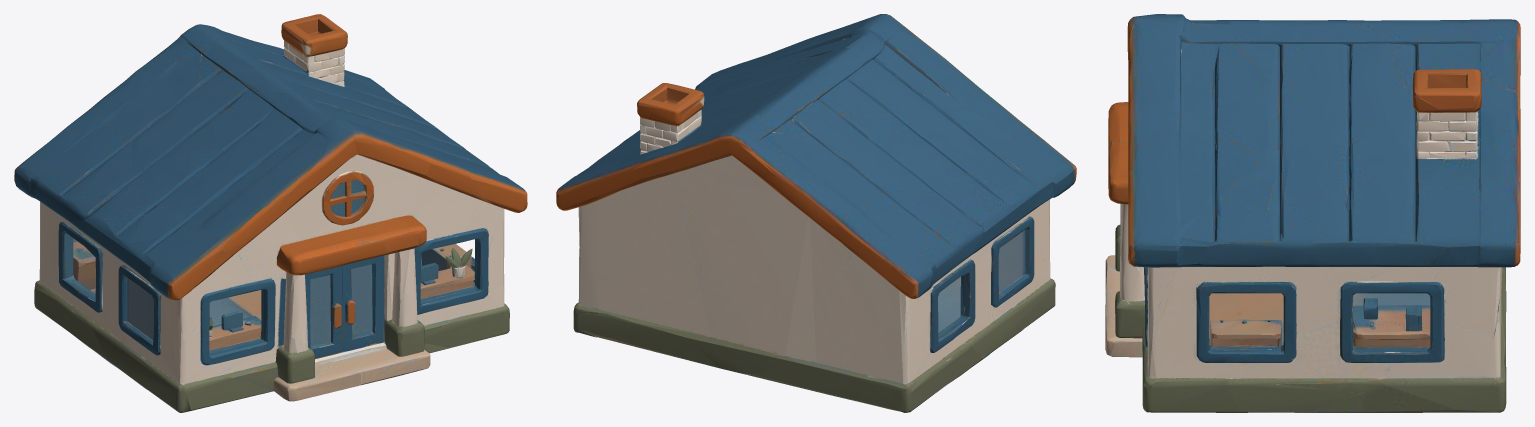
The model's file is realtyOffice.glb.
The picture shows the model from 3 angles, left to right: view 1: azimuth 30°, elevation 25°; view 2: azimuth 150°, elevation 25°; view 3: azimuth 270°, elevation 25°; orthographic projection. The views are drawn at different scales.
Parts seen in each view (by area): view 1: Mesh_0; view 2: Mesh_0; view 3: Mesh_0.
Part boxes in pixels (<box>): Mesh_0: <box>14,14,527,412</box>; Mesh_0: <box>556,14,1076,412</box>; Mesh_0: <box>1105,14,1520,412</box>.
Size of the model in its own units: 3.2 by 2.08 by 2.6.
1 material, 1 textured.
